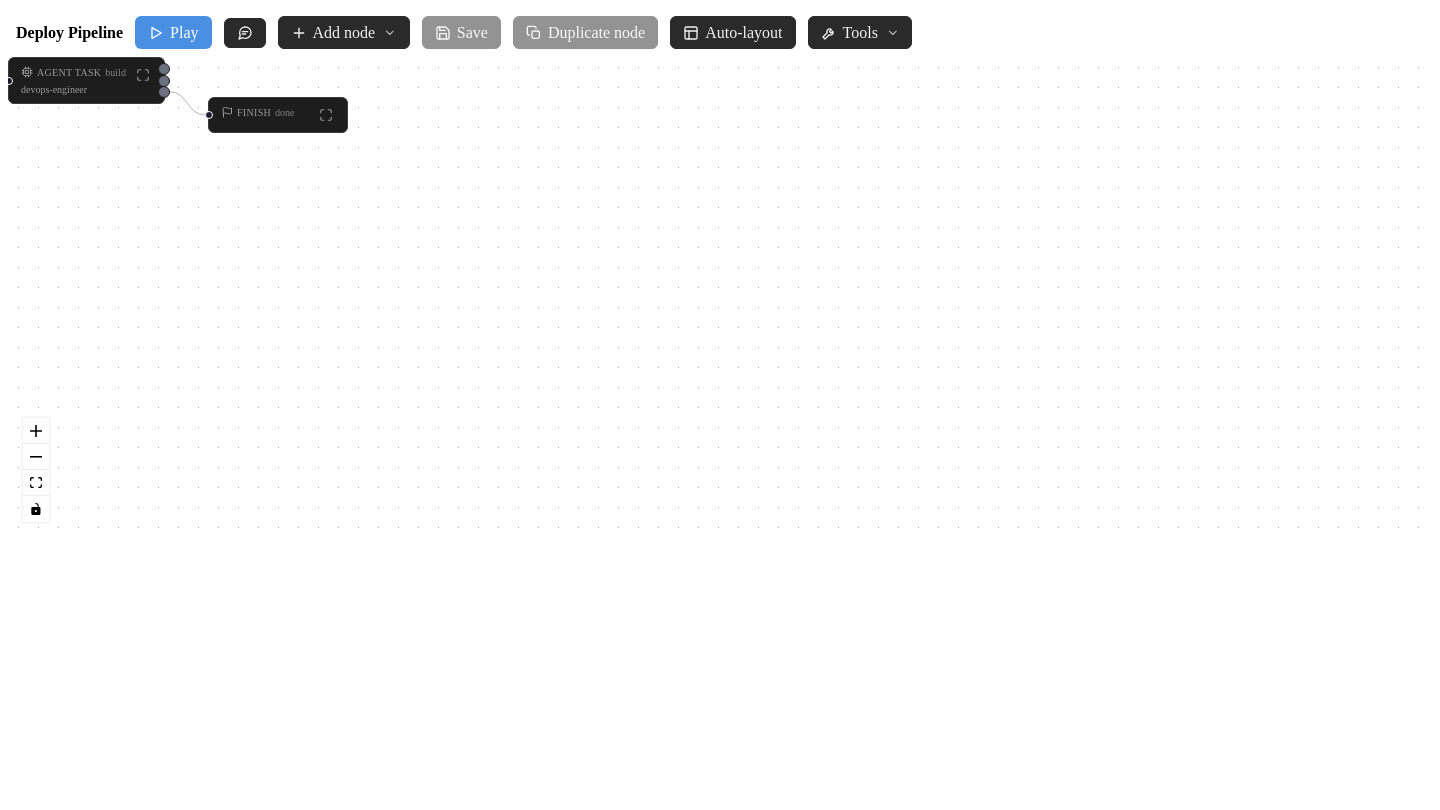
it: FlowEditor playback › does not start the run when the pre-play save fails
The width and height of the screenshot is (1440, 810).
Click the button "Auto-layout" at (733, 33), box x1=670 y1=16 x2=796 y2=49
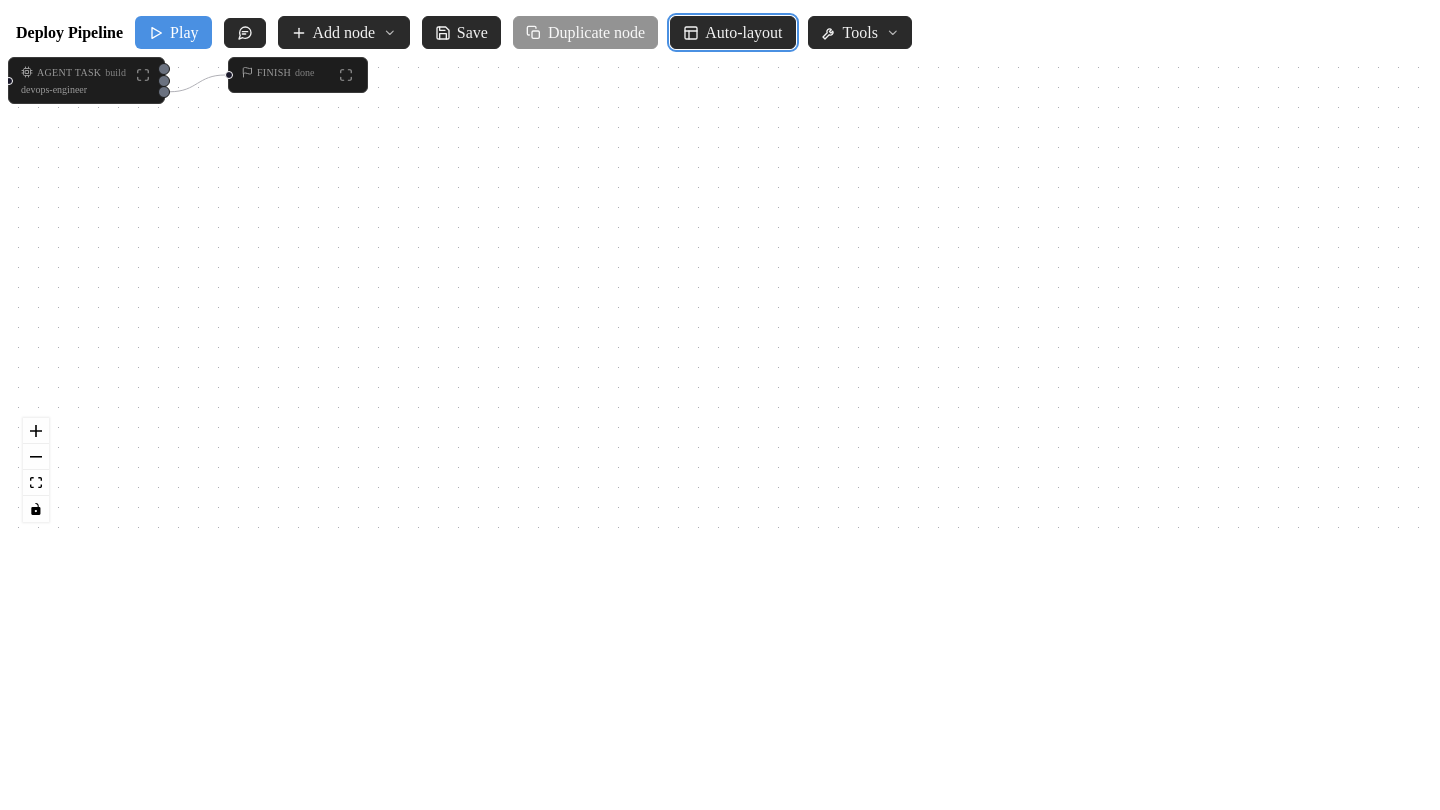
Click the button "Play" at (173, 33), box x1=135 y1=16 x2=212 y2=49
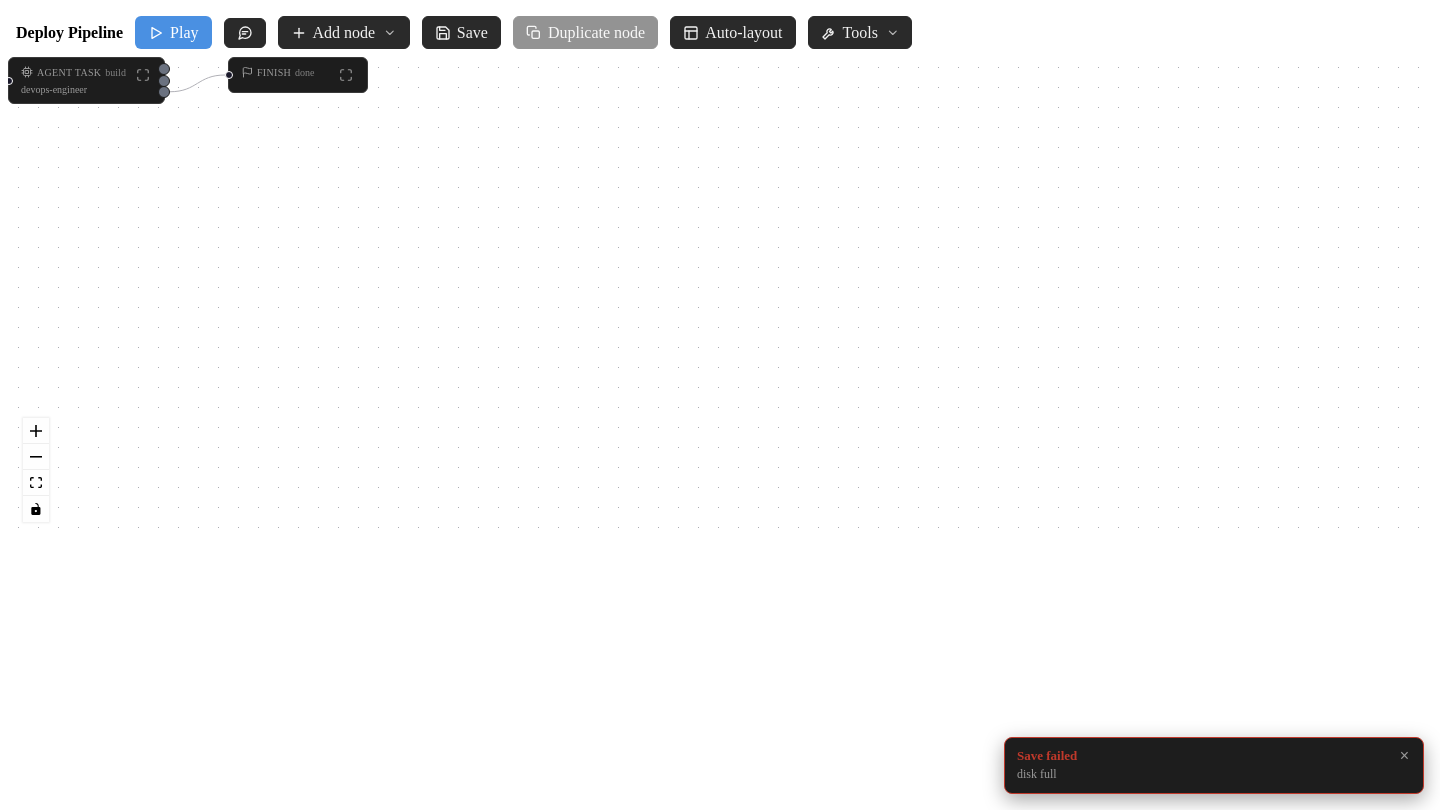
Now the dialog with test id "save-error-toast" shows "disk full", box x1=1017 y1=767 x2=1057 y2=781
